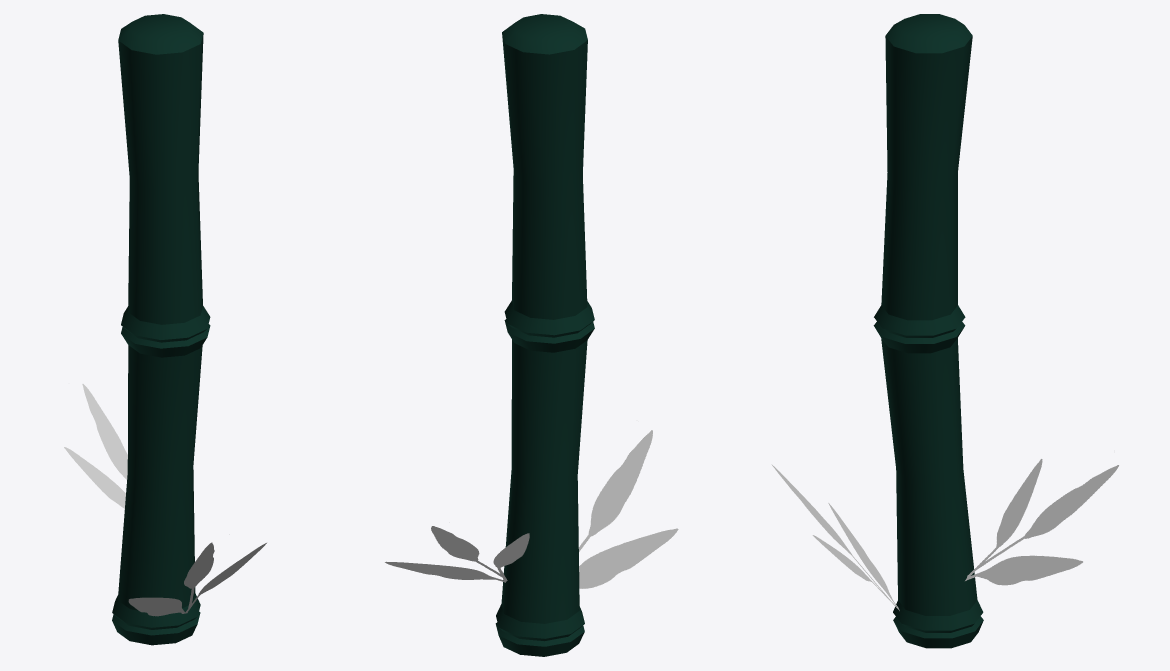
Rendered from Bambus03_v1.fbx.
3 renders of one model, left to right at view 1: azimuth 30°, elevation 25°; view 2: azimuth 150°, elevation 25°; view 3: azimuth 270°, elevation 25°, orthographic.
Visible parts, largest first — view 1: Cylinder.006, Plane.015; view 2: Cylinder.006, Plane.015; view 3: Cylinder.006, Plane.015.
Boxes of the visible parts, <box> form: Cylinder.006: <box>112,14,210,645</box>; Plane.015: <box>64,384,266,616</box>; Cylinder.006: <box>495,14,594,656</box>; Plane.015: <box>385,430,678,588</box>; Cylinder.006: <box>873,14,983,648</box>; Plane.015: <box>771,459,1118,610</box>.
Bounding box in the file's own units: 94.26 × 240 × 140.
